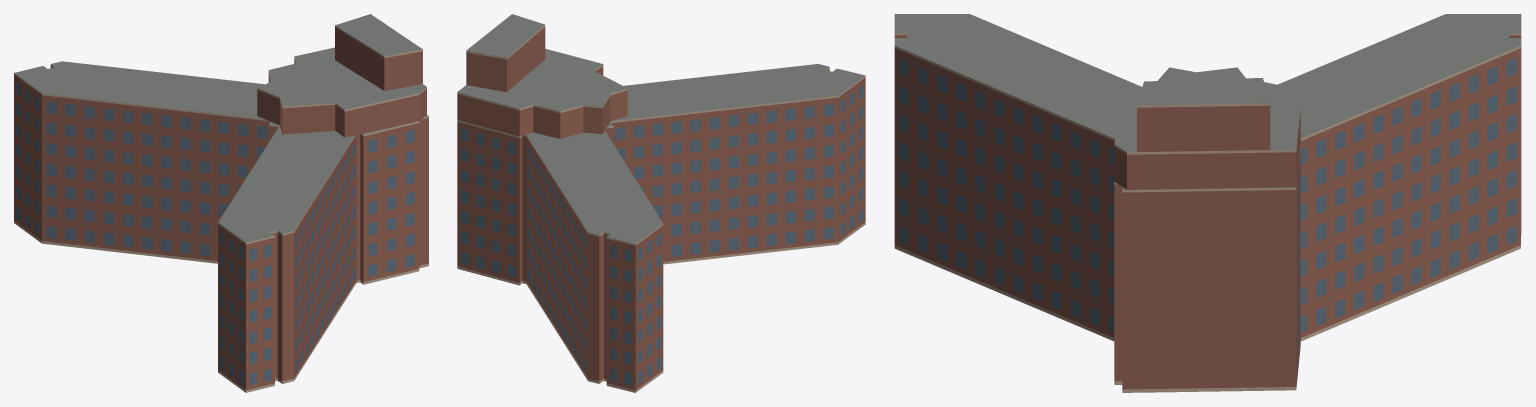
The model's file is dc-au-centennial-hall.glb.
3 views of the same model, side by side, from view 1: azimuth 30°, elevation 25°; view 2: azimuth 150°, elevation 25°; view 3: azimuth 270°, elevation 25° (orthographic). The views are drawn at different scales.
Visible parts, largest first — view 1: Centennial Hall; view 2: Centennial Hall; view 3: Centennial Hall.
Part boxes in pixels (box(x1,y1,x2,y2)): Centennial Hall: box(14, 14, 428, 392); Centennial Hall: box(457, 14, 865, 392); Centennial Hall: box(894, 14, 1521, 392).
Size of the model in its own units: 49.16 by 37.4 by 73.97.
